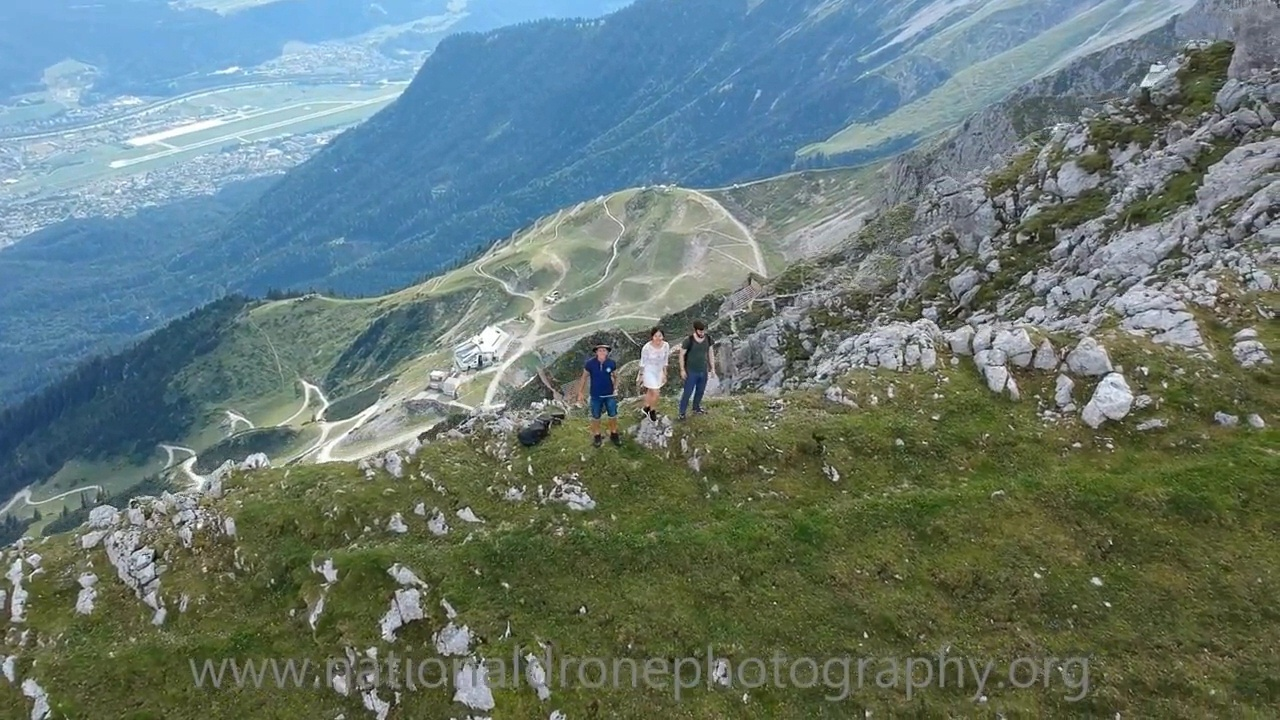insan: (577, 338, 624, 451), (678, 319, 718, 425), (640, 326, 672, 431)
